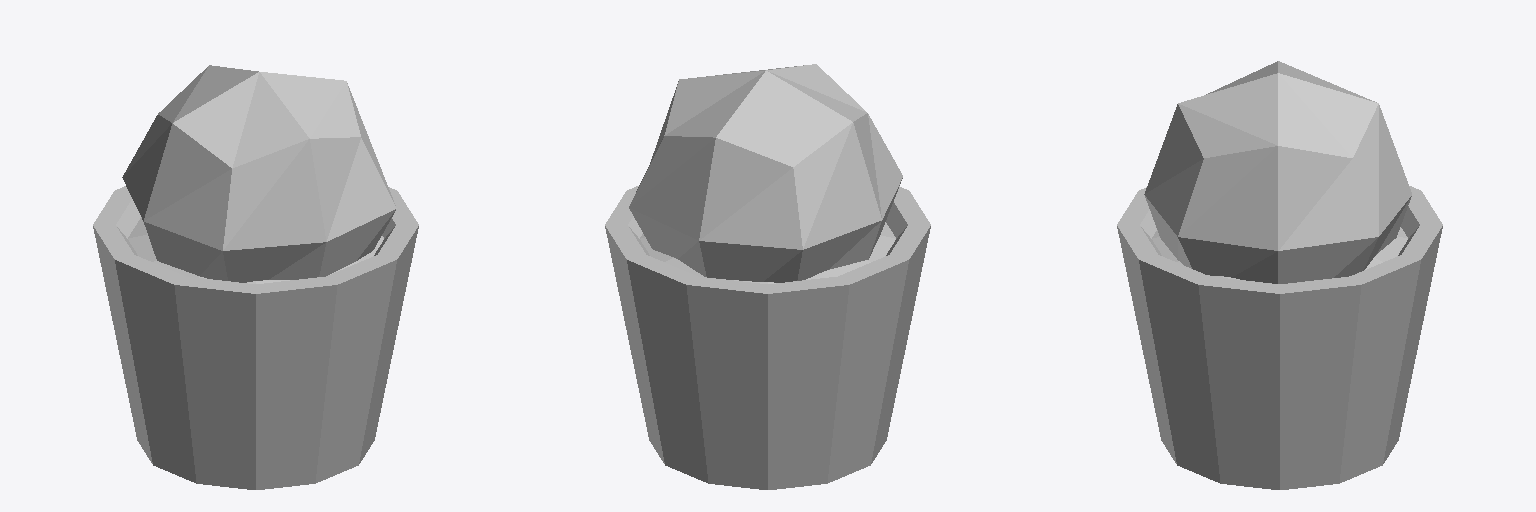
File: PottedPlant.obj
3 renders of one model, left to right at view 1: azimuth 30°, elevation 25°; view 2: azimuth 150°, elevation 25°; view 3: azimuth 270°, elevation 25°, orthographic.
Parts seen in each view (by area): view 1: PottedPlant pCylinder15, pCube8 PottedPlant; view 2: PottedPlant pCylinder15, pCube8 PottedPlant; view 3: PottedPlant pCylinder15, pCube8 PottedPlant.
Boxes of the visible parts, x1,y1,x2,y2 form: PottedPlant pCylinder15: [93, 186, 418, 489]; pCube8 PottedPlant: [122, 65, 396, 282]; PottedPlant pCylinder15: [605, 186, 930, 489]; pCube8 PottedPlant: [629, 64, 902, 282]; PottedPlant pCylinder15: [1117, 186, 1442, 489]; pCube8 PottedPlant: [1144, 61, 1411, 283].
Bounding box in the file's own units: 0.398 × 0.4958 × 0.398.